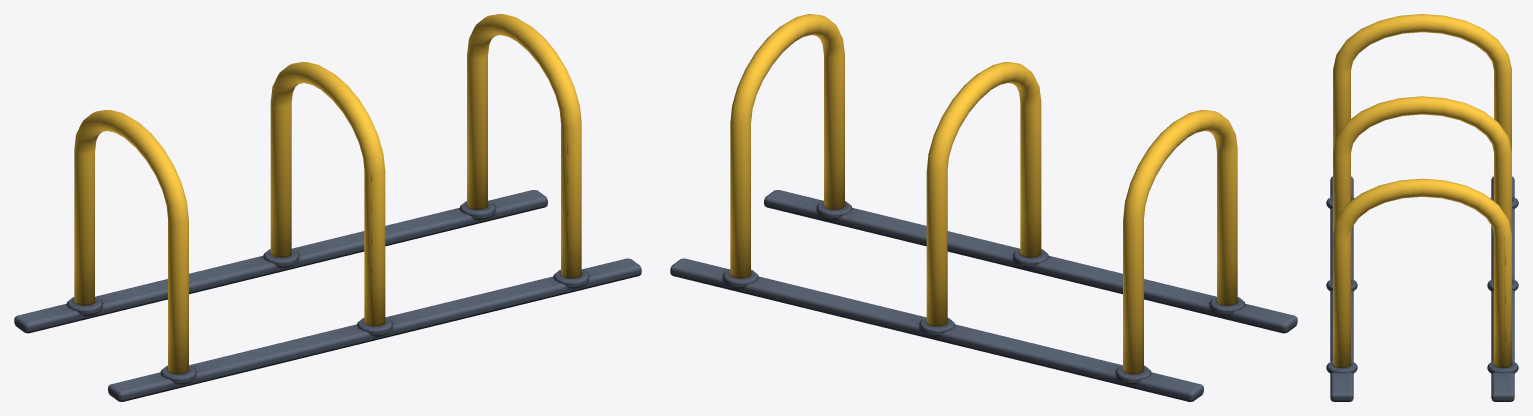
Rendered from bike_rack.glb.
3 renders of one model, left to right at view 1: azimuth 30°, elevation 25°; view 2: azimuth 150°, elevation 25°; view 3: azimuth 270°, elevation 25°, orthographic. The views are drawn at different scales.
Visible parts, largest first — view 1: bike_rack; view 2: bike_rack; view 3: bike_rack.
Part boxes in pixels (box(x1,y1,x2,y2)): bike_rack: box(14, 14, 641, 401); bike_rack: box(670, 14, 1297, 401); bike_rack: box(1326, 14, 1518, 401).
Bounding box in the file's own units: 2 × 0.836 × 0.74.
Materials: 2 (2 with a texture image).
